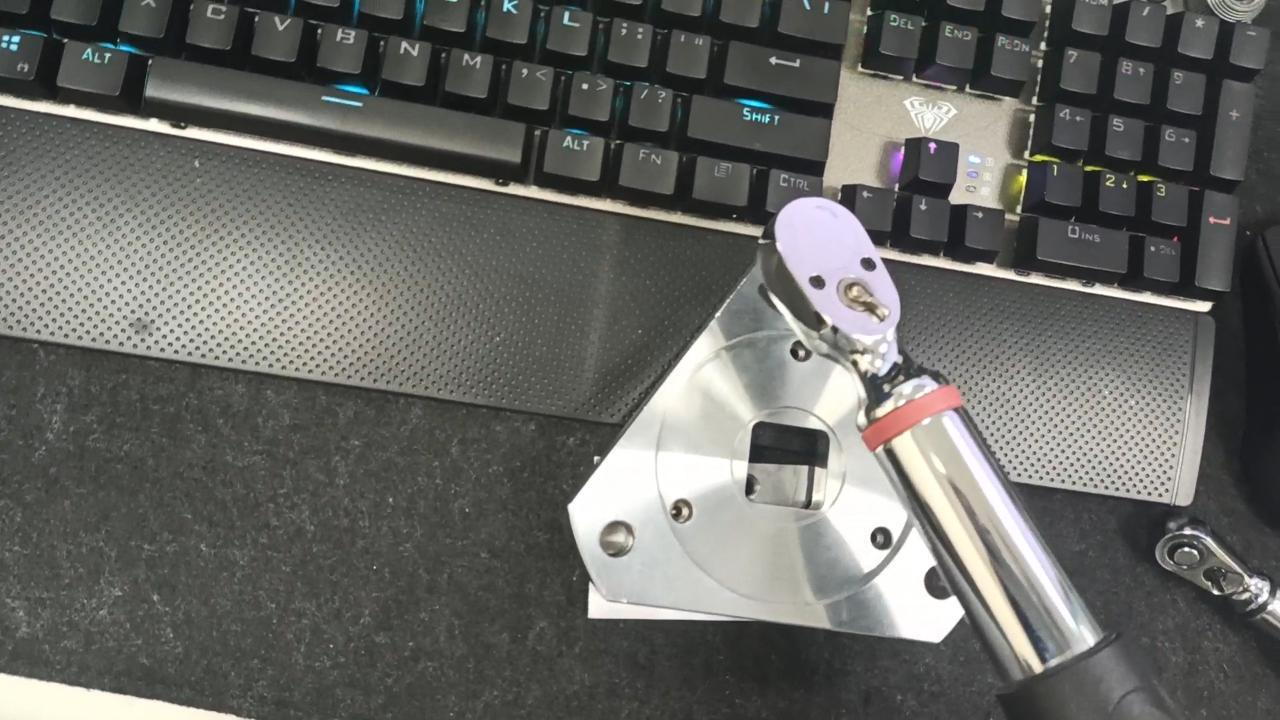Tool: (759, 182, 938, 413), (1151, 513, 1254, 610), (1194, 1, 1270, 23)
hole: (591, 519, 638, 567), (922, 562, 954, 602), (665, 497, 699, 532), (865, 523, 894, 555), (783, 332, 810, 365)
